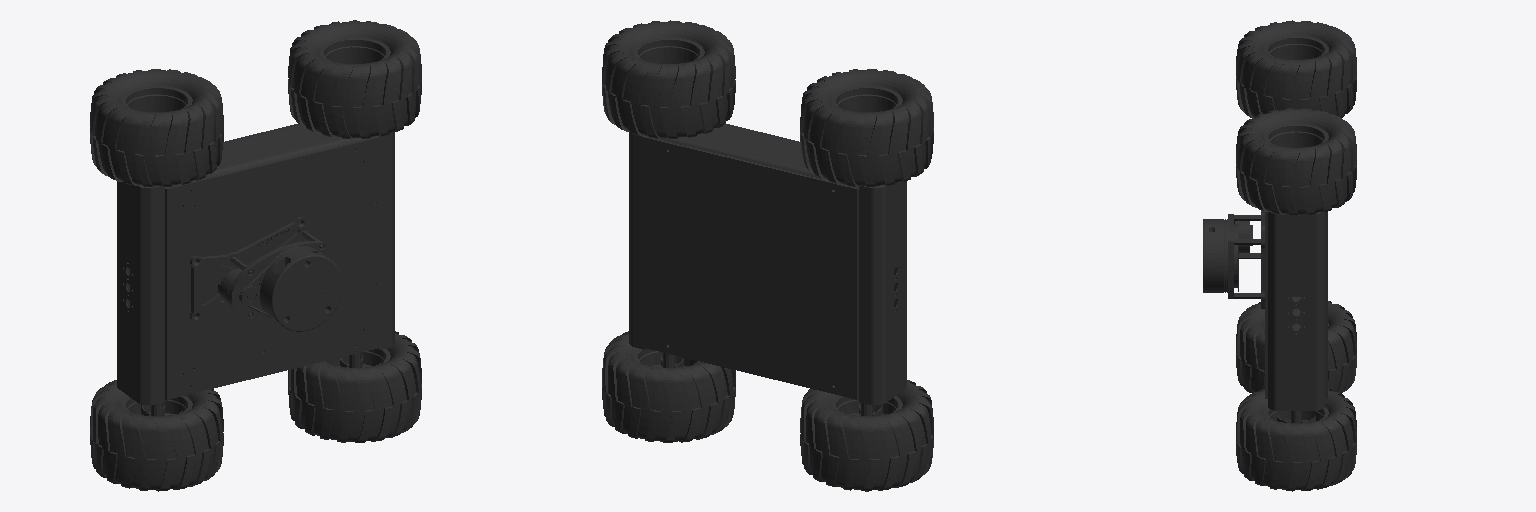
The robot description file, URDF, robot "00-Rover_Lidar_Assembly.SLDASM":
<?xml version="1.0" encoding="utf-8"?>
<!-- This URDF was automatically created by SolidWorks to URDF Exporter! Originally created by [author] ([email redacted]) 
     Commit Version: 1.6.0-1-g15f4949  Build Version: 1.6.7594.29634
     For more information, please see http://wiki.ros.org/sw_urdf_exporter -->
<robot
  name="00-Rover_Lidar_Assembly.SLDASM">
  <link
    name="Base">
    <inertial>
      <origin
        xyz="-0.0127168728379674 -0.1980064688065 -0.0186632374341713"
        rpy="0 0 0" />
      <mass
        value="0.6393269352137" />
      <inertia
        ixx="0.00130386889495966"
        ixy="3.62307918531214E-06"
        ixz="-7.87304653654605E-07"
        iyy="0.00306827950128554"
        iyz="-2.07348461361885E-07"
        izz="0.00192485422858142" />
    </inertial>
    <visual>
      <origin
        xyz="0 0 0"
        rpy="0 0 0" />
      <geometry>
        <mesh
          filename="package://00-Rover_Lidar_Assembly.SLDASM/meshes/Base.STL" />
      </geometry>
      <material
        name="">
        <color
          rgba="0.250980392156863 0.250980392156863 0.250980392156863 1" />
      </material>
    </visual>
    <collision>
      <origin
        xyz="0 0 0"
        rpy="0 0 0" />
      <geometry>
        <mesh
          filename="package://00-Rover_Lidar_Assembly.SLDASM/meshes/Base.STL" />
      </geometry>
    </collision>
  </link>
  <link
    name="Wheel_FR">
    <inertial>
      <origin
        xyz="0.00379939380568042 1.50990955849473E-10 -1.40165351547594E-10"
        rpy="0 0 0" />
      <mass
        value="0.47503084788529" />
      <inertia
        ixx="0.000871741191702141"
        ixy="1.01417054886553E-12"
        ixz="5.97464463751377E-13"
        iyy="0.000581978720417614"
        iyz="4.78811274716114E-12"
        izz="0.000581979311396503" />
    </inertial>
    <visual>
      <origin
        xyz="0 0 0"
        rpy="0 0 0" />
      <geometry>
        <mesh
          filename="package://00-Rover_Lidar_Assembly.SLDASM/meshes/Wheel_FR.STL" />
      </geometry>
      <material
        name="">
        <color
          rgba="0.250980392156863 0.250980392156863 0.250980392156863 1" />
      </material>
    </visual>
    <collision>
      <origin
        xyz="0 0 0"
        rpy="0 0 0" />
      <geometry>
        <mesh
          filename="package://00-Rover_Lidar_Assembly.SLDASM/meshes/Wheel_FR.STL" />
      </geometry>
    </collision>
  </link>
  <joint
    name="Wheel_FR"
    type="continuous">
    <origin
      xyz="0.086547 -0.182 -0.15755"
      rpy="1.5708 1.5708 0" />
    <parent
      link="Base" />
    <child
      link="Wheel_FR" />
    <axis
      xyz="1 0 0" />
    <limit
      lower="0"
      upper="0"
      effort="0"
      velocity="0" />
  </joint>
  <link
    name="Wheel_FL">
    <inertial>
      <origin
        xyz="0.00379939380568045 1.50991039116199E-10 -1.40165240525292E-10"
        rpy="0 0 0" />
      <mass
        value="0.47503084788529" />
      <inertia
        ixx="0.000871741191702147"
        ixy="1.01416940224523E-12"
        ixz="5.97464669068177E-13"
        iyy="0.000581978720417615"
        iyz="4.78811406782948E-12"
        izz="0.000581979311396506" />
    </inertial>
    <visual>
      <origin
        xyz="0 0 0"
        rpy="0 0 0" />
      <geometry>
        <mesh
          filename="package://00-Rover_Lidar_Assembly.SLDASM/meshes/Wheel_FL.STL" />
      </geometry>
      <material
        name="">
        <color
          rgba="0.250980392156863 0.250980392156863 0.250980392156863 1" />
      </material>
    </visual>
    <collision>
      <origin
        xyz="0 0 0"
        rpy="0 0 0" />
      <geometry>
        <mesh
          filename="package://00-Rover_Lidar_Assembly.SLDASM/meshes/Wheel_FL.STL" />
      </geometry>
    </collision>
  </link>
  <joint
    name="Wheel_FL"
    type="continuous">
    <origin
      xyz="0.086547 -0.182 0.12045"
      rpy="1.5708 -1.5708 0" />
    <parent
      link="Base" />
    <child
      link="Wheel_FL" />
    <axis
      xyz="1 0 0" />
    <limit
      lower="0"
      upper="0"
      effort="0"
      velocity="0" />
  </joint>
  <link
    name="Wheel_BR">
    <inertial>
      <origin
        xyz="0.00379939380568037 1.50990955849473E-10 -1.40165656858926E-10"
        rpy="0 0 0" />
      <mass
        value="0.475030847885291" />
      <inertia
        ixx="0.000871741191702142"
        ixy="1.0141687068998E-12"
        ixz="5.974658575447E-13"
        iyy="0.000581978720417615"
        iyz="4.78811001961573E-12"
        izz="0.000581979311396504" />
    </inertial>
    <visual>
      <origin
        xyz="0 0 0"
        rpy="0 0 0" />
      <geometry>
        <mesh
          filename="package://00-Rover_Lidar_Assembly.SLDASM/meshes/Wheel_BR.STL" />
      </geometry>
      <material
        name="">
        <color
          rgba="0.250980392156863 0.250980392156863 0.250980392156863 1" />
      </material>
    </visual>
    <collision>
      <origin
        xyz="0 0 0"
        rpy="0 0 0" />
      <geometry>
        <mesh
          filename="package://00-Rover_Lidar_Assembly.SLDASM/meshes/Wheel_BR.STL" />
      </geometry>
    </collision>
  </link>
  <joint
    name="Wheel_BR"
    type="continuous">
    <origin
      xyz="-0.10845 -0.182 -0.15755"
      rpy="1.5708 1.5708 0" />
    <parent
      link="Base" />
    <child
      link="Wheel_BR" />
    <axis
      xyz="1 0 0" />
    <limit
      lower="0"
      upper="0"
      effort="0"
      velocity="0" />
  </joint>
  <link
    name="Wheel_BL">
    <inertial>
      <origin
        xyz="0.00379939380568042 1.50991052993987E-10 -1.40165240525292E-10"
        rpy="0 0 0" />
      <mass
        value="0.47503084788529" />
      <inertia
        ixx="0.000871741191702149"
        ixy="1.01416993028101E-12"
        ixz="5.97463617204028E-13"
        iyy="0.000581978720417616"
        iyz="4.78811353399934E-12"
        izz="0.000581979311396506" />
    </inertial>
    <visual>
      <origin
        xyz="0 0 0"
        rpy="0 0 0" />
      <geometry>
        <mesh
          filename="package://00-Rover_Lidar_Assembly.SLDASM/meshes/Wheel_BL.STL" />
      </geometry>
      <material
        name="">
        <color
          rgba="0.250980392156863 0.250980392156863 0.250980392156863 1" />
      </material>
    </visual>
    <collision>
      <origin
        xyz="0 0 0"
        rpy="0 0 0" />
      <geometry>
        <mesh
          filename="package://00-Rover_Lidar_Assembly.SLDASM/meshes/Wheel_BL.STL" />
      </geometry>
    </collision>
  </link>
  <joint
    name="Wheel_BL"
    type="continuous">
    <origin
      xyz="-0.10845 -0.182 0.12045"
      rpy="1.5708 -1.5708 0" />
    <parent
      link="Base" />
    <child
      link="Wheel_BL" />
    <axis
      xyz="1 0 0" />
    <limit
      lower="0"
      upper="0"
      effort="0"
      velocity="0" />
  </joint>
</robot>

--- What the picture shows (computed from the rendered views, not written in the file) ---
3 views of the same robot in one strip: view 1: azimuth 30°, elevation 25°; view 2: azimuth 150°, elevation 25°; view 3: azimuth 270°, elevation 25° (orthographic).
Robot: 00-Rover_Lidar_Assembly.SLDASM — 5 links, 4 joints (4 continuous); root link Base; default pose: all joints at 0.
Visible links, largest first — view 1: Base, Wheel_FL, Wheel_BL, Wheel_BR, Wheel_FR; view 2: Base, Wheel_FL, Wheel_BL, Wheel_BR, Wheel_FR; view 3: Base, Wheel_FL, Wheel_BL, Wheel_FR, Wheel_BR.
Boxes of the visible links, bbox=[...] form: Base: bbox=[117, 124, 394, 415]; Wheel_FL: bbox=[288, 20, 421, 138]; Wheel_BL: bbox=[90, 69, 223, 187]; Wheel_BR: bbox=[90, 380, 223, 491]; Wheel_FR: bbox=[288, 331, 421, 442]; Base: bbox=[629, 123, 906, 415]; Wheel_FL: bbox=[602, 20, 735, 138]; Wheel_BL: bbox=[800, 69, 933, 187]; Wheel_BR: bbox=[800, 380, 933, 491]; Wheel_FR: bbox=[602, 331, 735, 442]; Base: bbox=[1203, 210, 1327, 422]; Wheel_FL: bbox=[1236, 108, 1356, 215]; Wheel_BL: bbox=[1236, 20, 1356, 118]; Wheel_FR: bbox=[1236, 388, 1356, 491]; Wheel_BR: bbox=[1236, 301, 1356, 393].
Size in the robot's own frame: 0.3092 by 0.1452 by 0.3534 metres.
5 mesh visuals loaded from 5 distinct referenced files (5 binary STL).